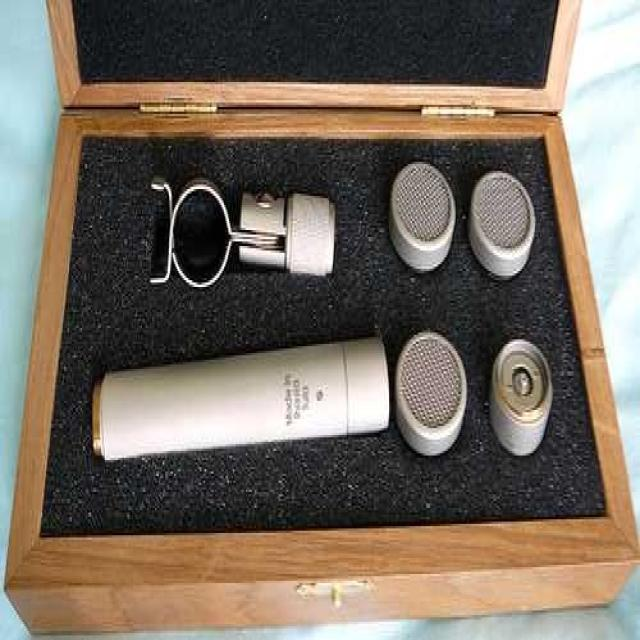microphone: (392, 326, 470, 460), (466, 166, 540, 285), (487, 334, 554, 458), (387, 159, 458, 276)
